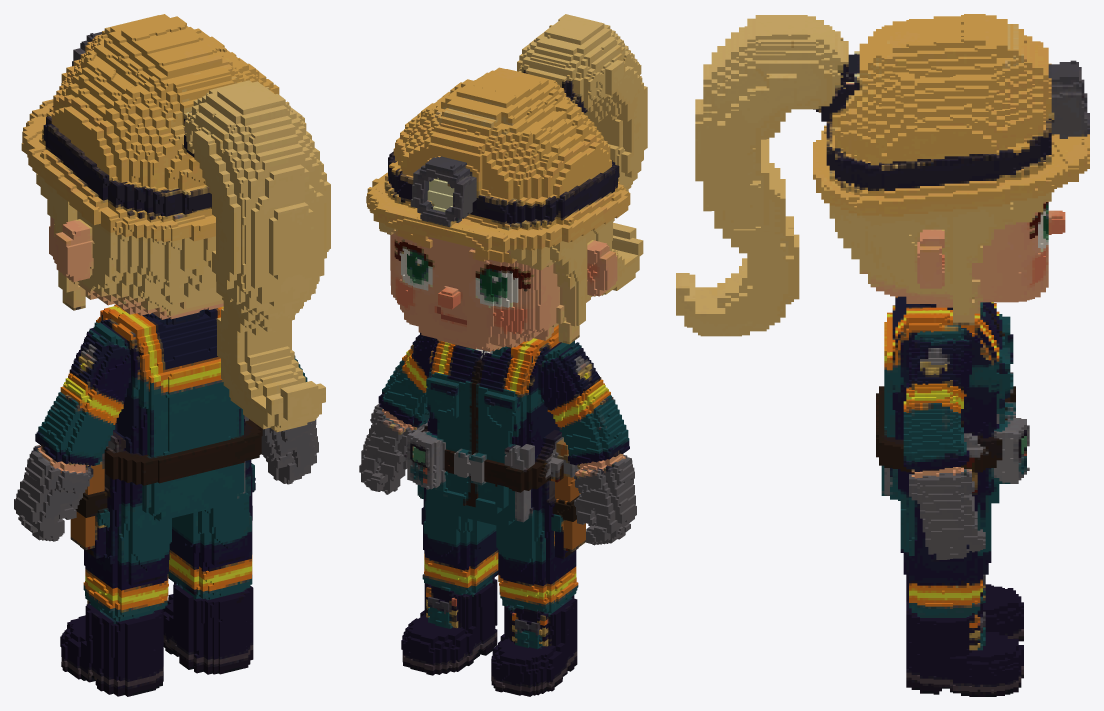
The model's file is char_05_huangmao.glb.
The picture shows the model from 3 angles, left to right: view 1: azimuth 30°, elevation 25°; view 2: azimuth 150°, elevation 25°; view 3: azimuth 270°, elevation 25°; orthographic projection. The views are drawn at different scales.
Visible parts, largest first — view 1: voxel_character; view 2: voxel_character; view 3: voxel_character.
Part boxes in pixels (left/top/right/bottom): voxel_character: left=14, top=14, right=330, bottom=696; voxel_character: left=359, top=14, right=647, bottom=696; voxel_character: left=676, top=14, right=1089, bottom=696.
Size of the model in its own units: 1.04 by 2.2 by 1.3.
